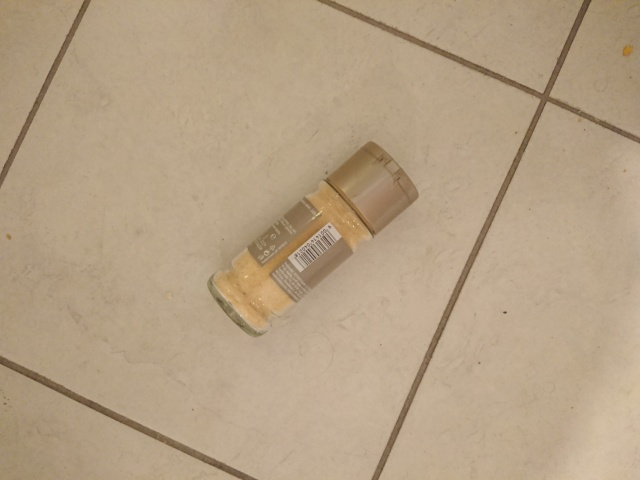Kotanyi Garlic Granules 70g: (204, 137, 423, 342)
